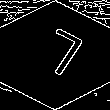L_SW: (25, 26, 85, 84)
